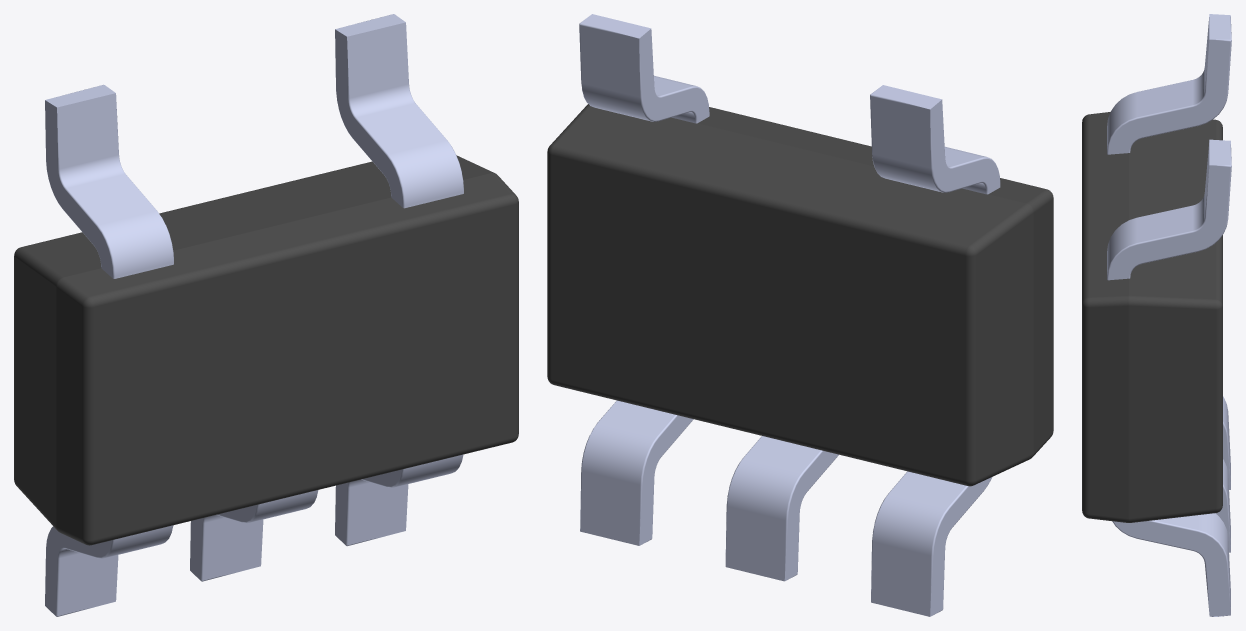
File: TSOT-23-5.glb
3 renders of one model, left to right at view 1: azimuth 30°, elevation 25°; view 2: azimuth 150°, elevation 25°; view 3: azimuth 270°, elevation 25°, orthographic. The views are drawn at different scales.
Visible parts, largest first — view 1: NAUO2, NAUO1; view 2: NAUO2, NAUO1; view 3: NAUO2, NAUO1.
Part boxes in pixels (left/top/right/bottom): NAUO2: left=14, top=155, right=518, bottom=545; NAUO1: left=45, top=14, right=463, bottom=616; NAUO2: left=547, top=104, right=1053, bottom=486; NAUO1: left=579, top=14, right=1000, bottom=616; NAUO2: left=1082, top=112, right=1222, bottom=522; NAUO1: left=1107, top=14, right=1231, bottom=616.
Bounding box in the file's own units: 0.0029 × 0.00319 × 0.000957.
